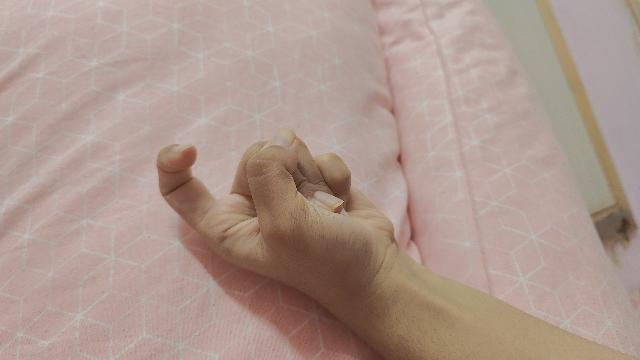tamrachud: (153, 128, 640, 360)
